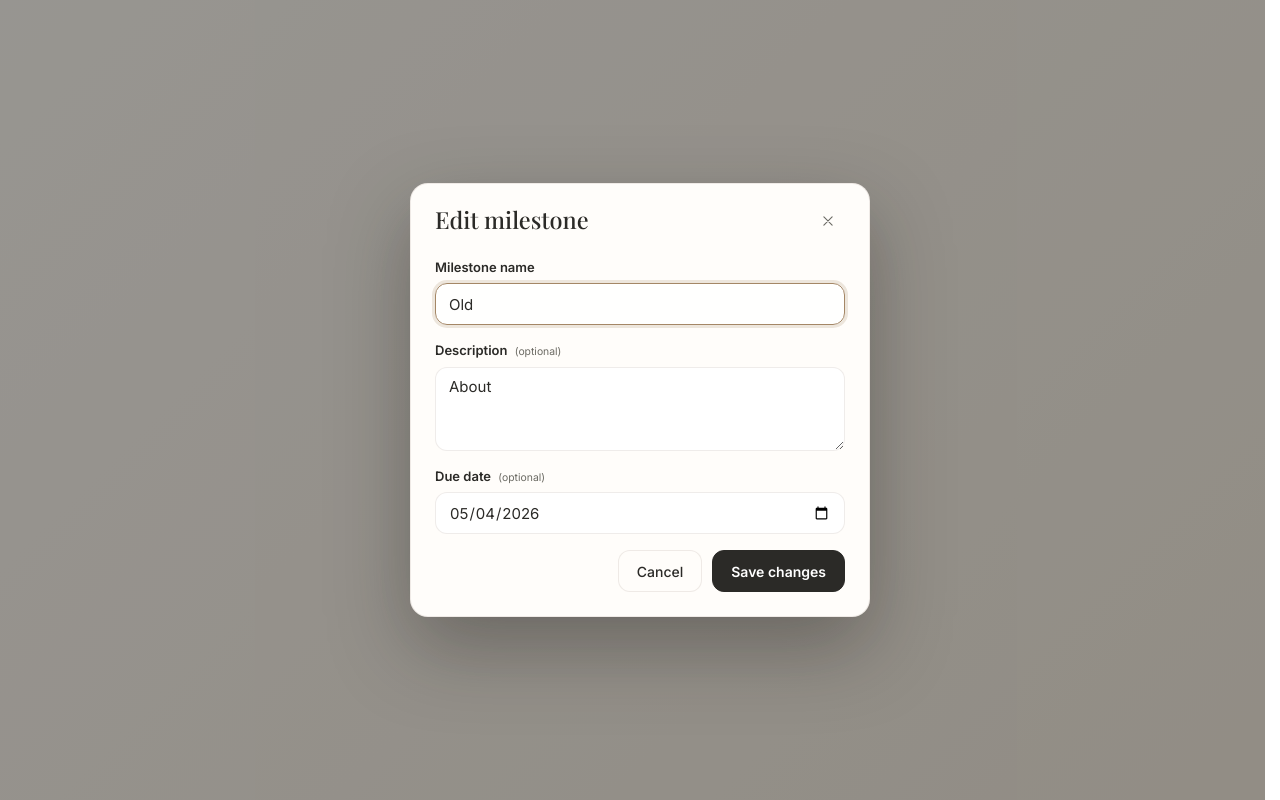
Scenario: MilestoneDialog › edits an existing milestone with PATCH and shows a server refusal as an alert without closing
Replace the text in the field labelled "Milestone name" with "New" at (640, 304), box [435, 283, 845, 325]
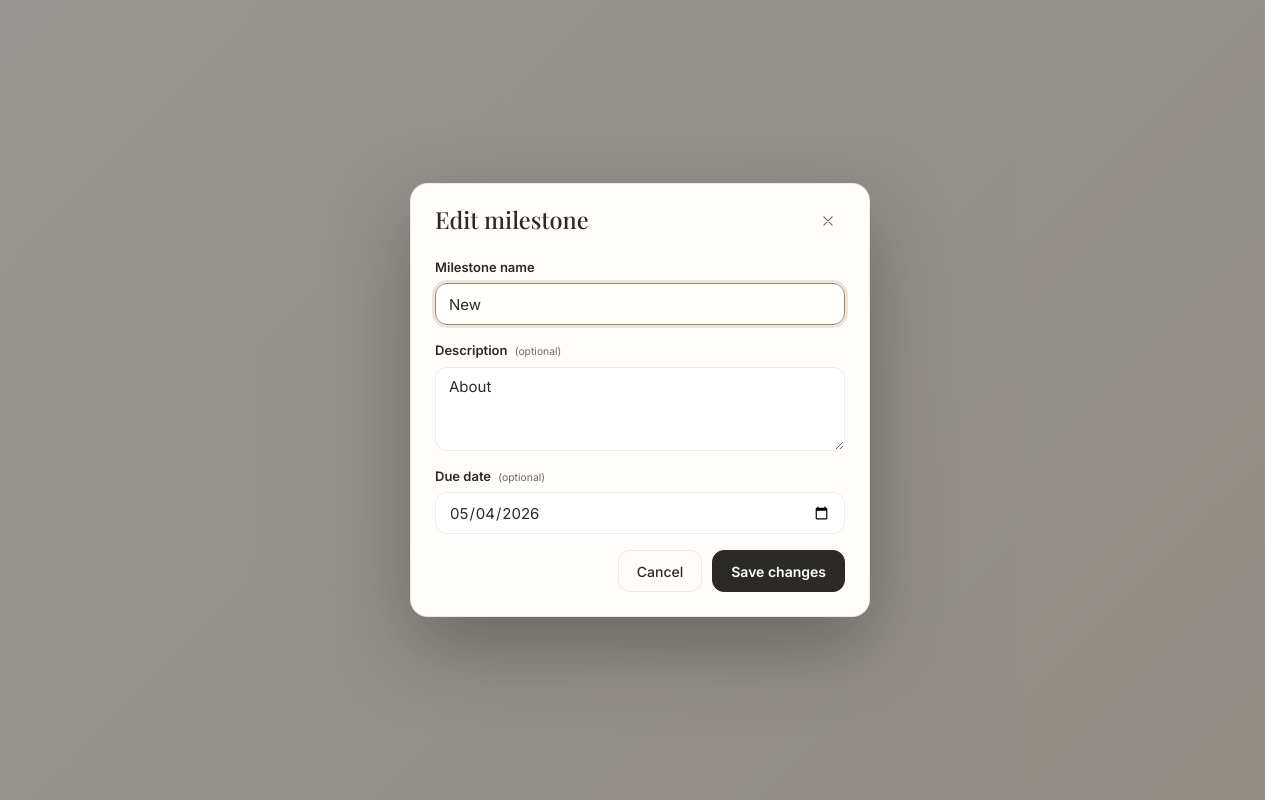
Click the button "Save changes" at (779, 571), box [712, 550, 845, 592]
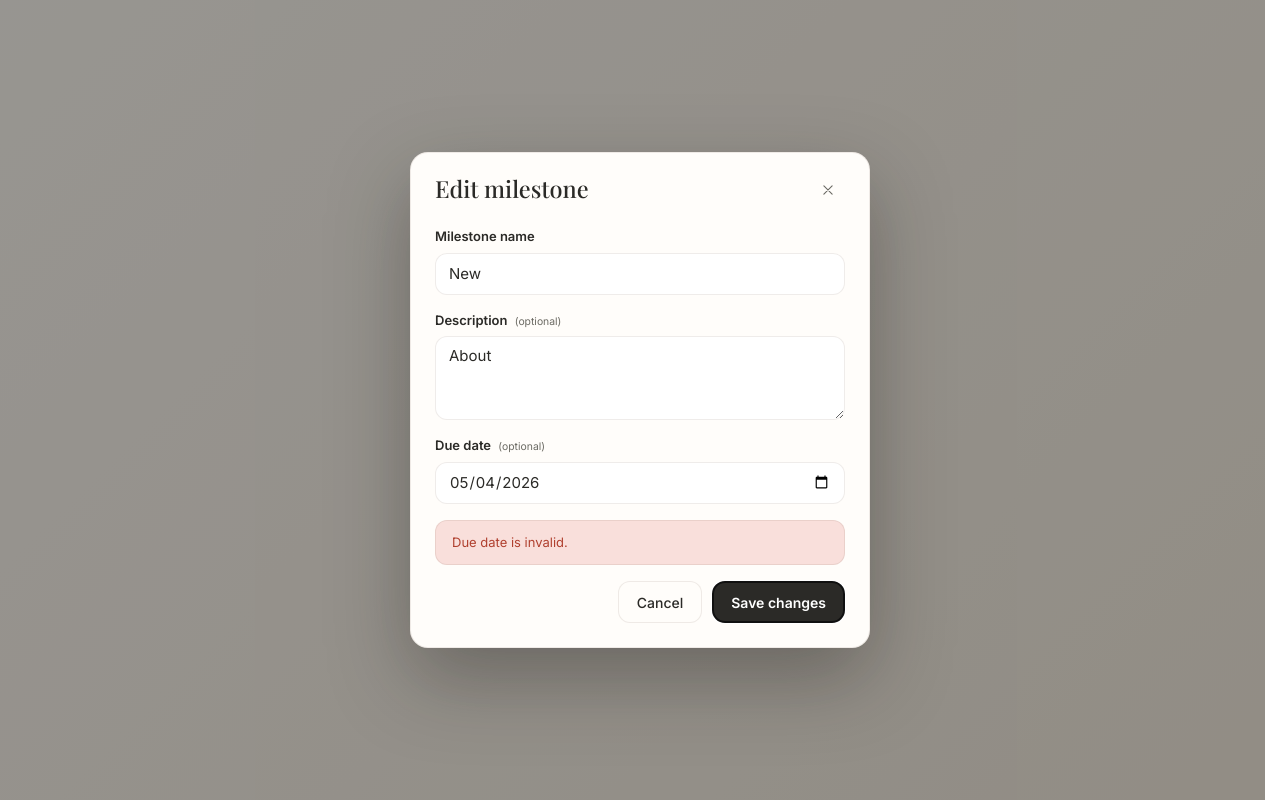
Check: the message reads "Due date is invalid.", box [452, 534, 568, 550]
